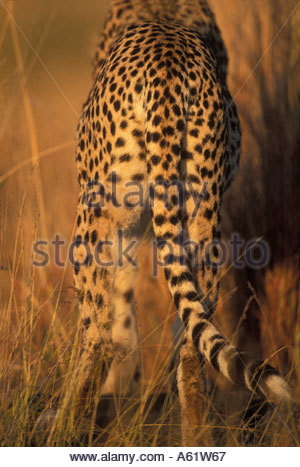Cheetah: (63, 1, 286, 436)
